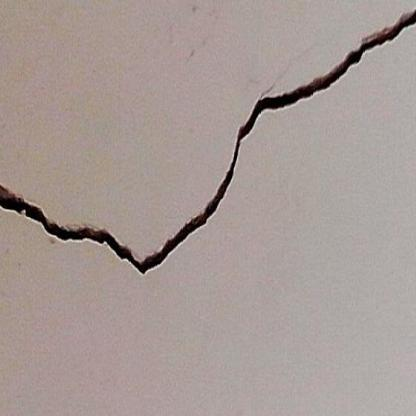curved crack: (0, 9, 415, 273)
